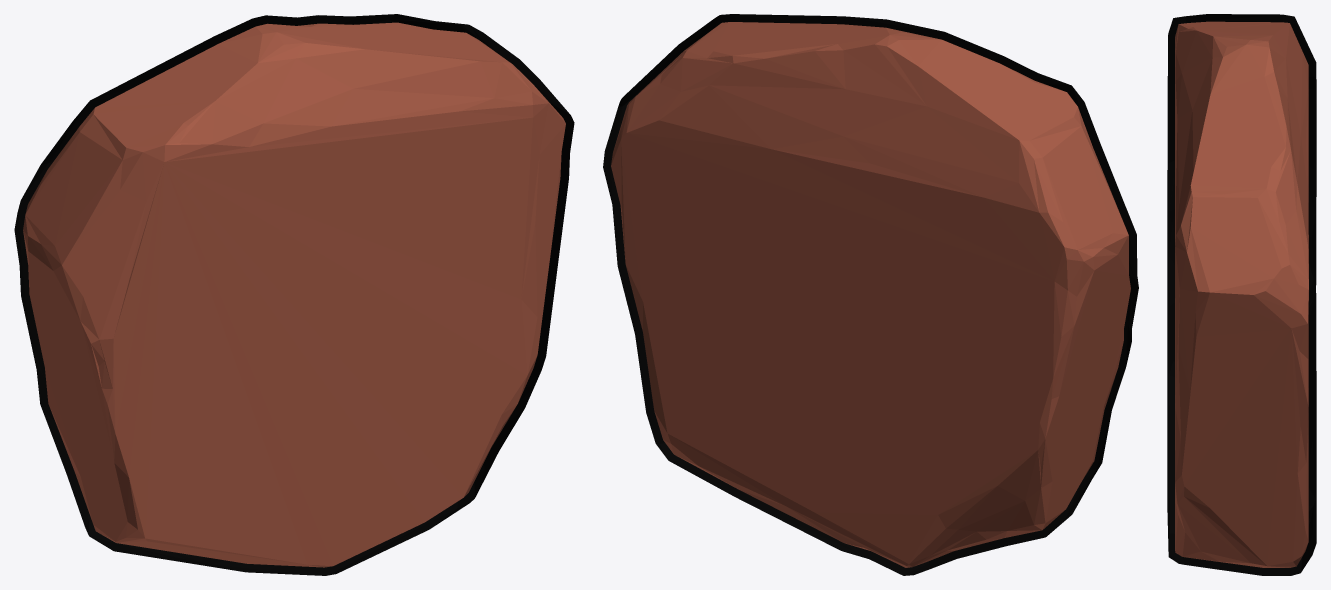
File: rock_plate.glb
3 renders of one model, left to right at view 1: azimuth 30°, elevation 25°; view 2: azimuth 150°, elevation 25°; view 3: azimuth 270°, elevation 25°, orthographic. The views are drawn at different scales.
Parts seen in each view (by area): view 1: rock_plate; view 2: rock_plate; view 3: rock_plate.
Part boxes in pixels (box(x1,y1,x2,y2)): rock_plate: box(14, 14, 574, 575); rock_plate: box(603, 14, 1138, 575); rock_plate: box(1167, 14, 1316, 575).
Size of the model in its own units: 6.17 by 6.18 by 1.68.
